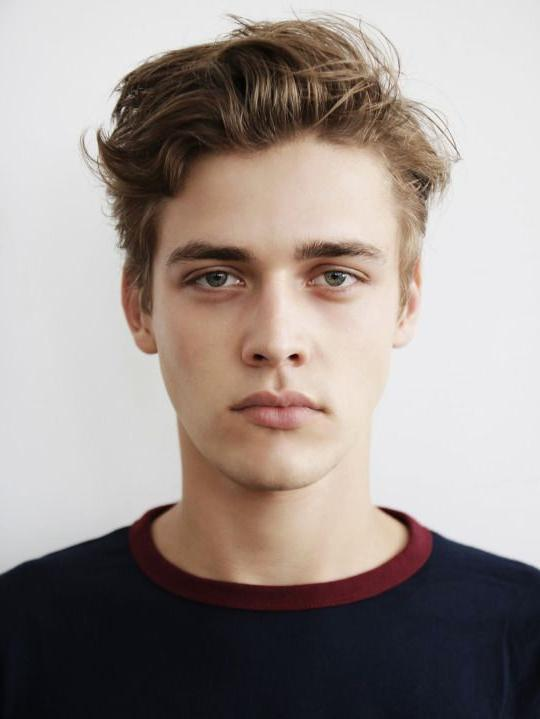Sober: (157, 162, 391, 452)
